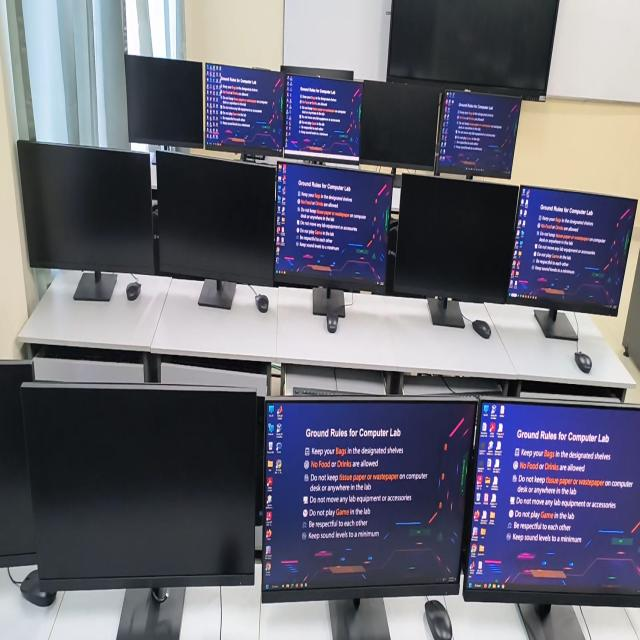Chair: (385, 216, 398, 295)
Digital board: (387, 0, 559, 100)
Keyboard: (413, 391, 502, 401), (293, 386, 369, 396)
Monitor: (21, 382, 260, 639), (262, 396, 477, 639), (463, 401, 640, 639), (17, 140, 155, 301), (507, 186, 637, 340), (393, 175, 519, 327), (156, 152, 276, 309), (274, 162, 392, 316), (434, 90, 521, 179), (0, 360, 36, 567), (359, 81, 442, 170), (124, 55, 203, 148), (205, 63, 284, 155), (283, 73, 362, 164), (281, 66, 353, 80)
Mouse: (20, 569, 56, 606), (423, 600, 453, 639), (575, 352, 592, 373), (472, 320, 491, 338), (126, 280, 141, 300), (256, 295, 268, 313), (327, 314, 339, 332)
